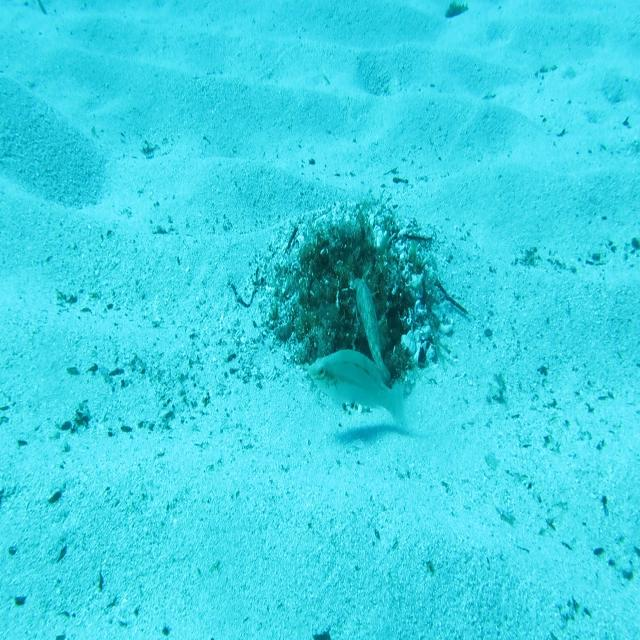FAN: (351, 274, 392, 386)
core_nest: (326, 248, 380, 297)
female: (307, 345, 412, 435)
nest: (249, 186, 471, 426)
vegetation: (444, 0, 470, 20)
